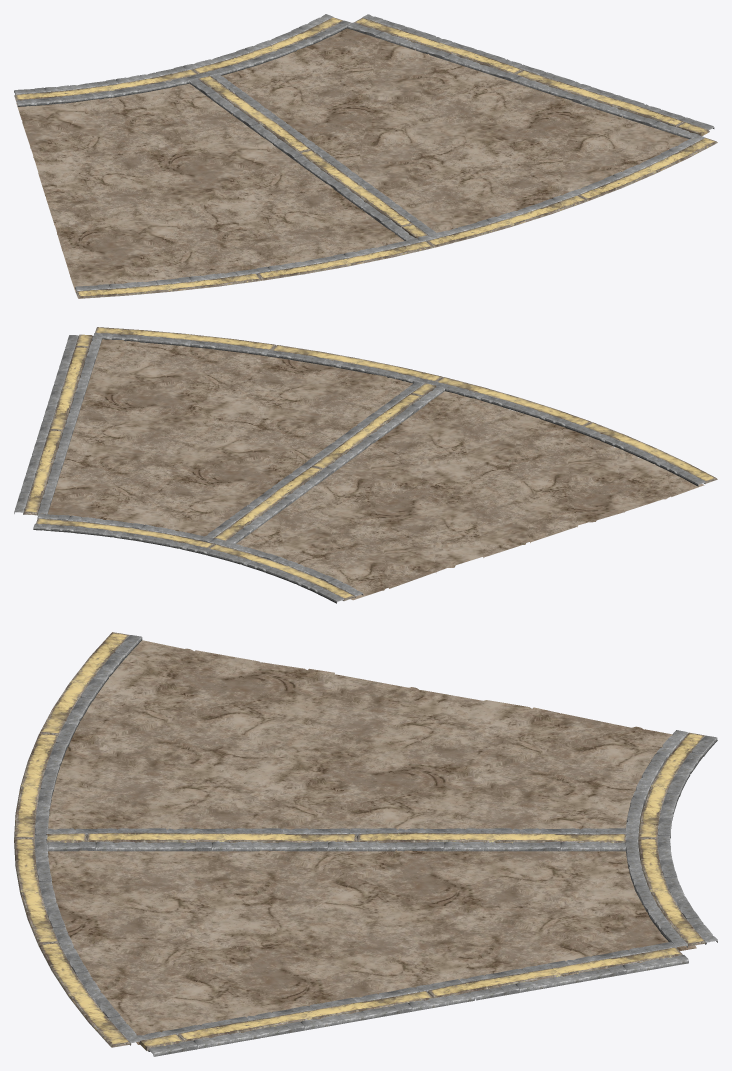
The picture shows the model from 3 angles, top to bottom: view 1: azimuth 30°, elevation 25°; view 2: azimuth 150°, elevation 25°; view 3: azimuth 270°, elevation 25°; orthographic projection. The views are drawn at different scales.
Parts seen in each view (by area): view 1: SM_FloorSegment01_LOD0; view 2: SM_FloorSegment01_LOD0; view 3: SM_FloorSegment01_LOD0.
Part boxes in pixels (x1,y1,x2,y2): SM_FloorSegment01_LOD0: (14,14,717,298); SM_FloorSegment01_LOD0: (14,327,717,603); SM_FloorSegment01_LOD0: (14,632,717,1056).
Bounding box in the file's own units: 14.82 × 0.1328 × 10.44.
Materials: 2 (2 with a texture image).
